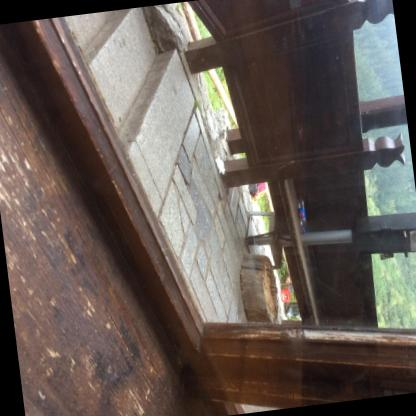Paper: (214, 156, 224, 174)
Plastic: (296, 199, 305, 232)
